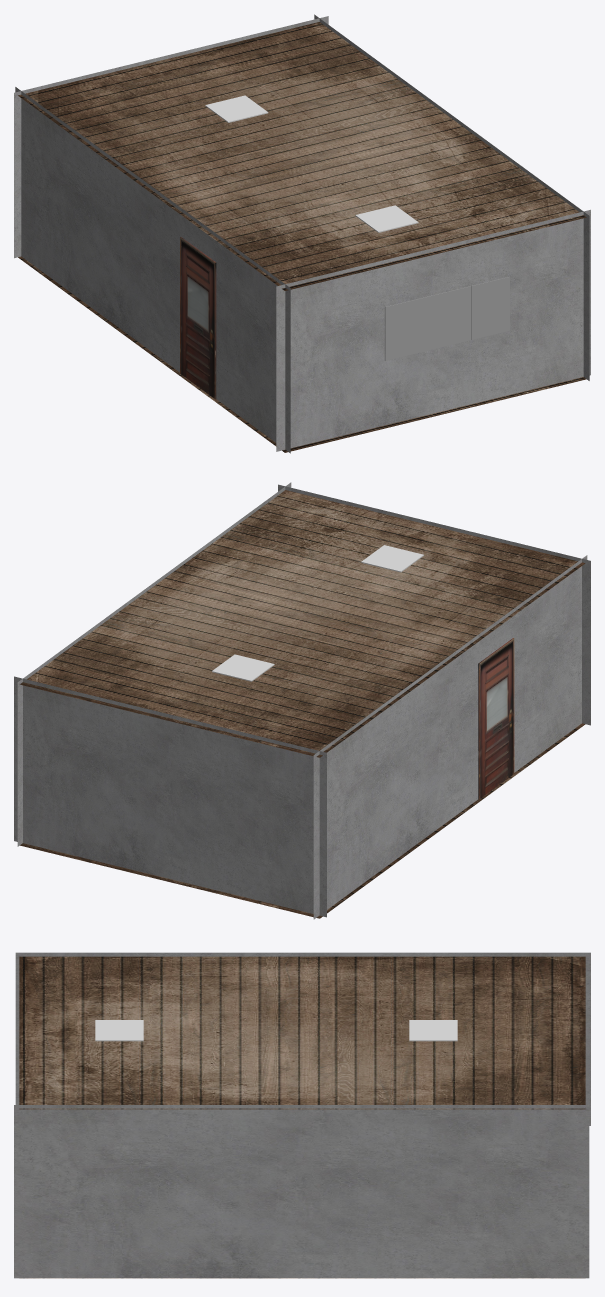
The model's file is classroom.glb.
3 views of the same model, one above another, from view 1: azimuth 30°, elevation 25°; view 2: azimuth 150°, elevation 25°; view 3: azimuth 270°, elevation 25° (orthographic). The views are drawn at different scales.
Visible parts, largest first — view 1: Plane.005, Plane.004, Plane.001, Cube.065, Cube, Plane.003, Plane.002, Plane, Cube.061, Cube.070, Cube.069; view 2: Plane.005, Plane.003, Plane.001, Cube.065, Plane.004, Plane, Plane.002, Cube.069, Cube.070; view 3: Plane.002, Plane.005, Plane.001, Cube.069, Cube.070, Plane.
Boxes of the visible parts, x1,y1,x2,y2 form: Plane.005: (18, 22, 586, 290); Plane.004: (276, 209, 590, 451); Plane.001: (15, 87, 290, 453); Cube.065: (180, 237, 216, 399); Cube: (385, 286, 471, 360); Plane.003: (14, 16, 328, 258); Plane.002: (314, 14, 589, 380); Plane: (18, 256, 586, 452); Cube.061: (471, 276, 509, 339); Cube.070: (355, 205, 418, 232); Cube.069: (205, 95, 268, 122); Plane.005: (20, 490, 585, 757); Plane.003: (14, 676, 326, 917); Plane.001: (313, 555, 587, 919); Cube.065: (478, 638, 514, 799); Plane.004: (278, 484, 590, 725); Plane: (20, 723, 585, 918); Plane.002: (17, 482, 291, 846); Cube.069: (212, 654, 274, 681); Cube.070: (361, 545, 423, 572); Plane.002: (14, 1105, 589, 1278); Plane.005: (19, 956, 585, 1109); Plane.001: (15, 952, 590, 1125); Cube.069: (409, 1020, 457, 1041); Cube.070: (95, 1020, 143, 1041); Plane: (19, 1278, 585, 1278).
Size of the model in its own units: 12.29 by 6.24 by 18.57.
Materials: 17 (11 with a texture image).
